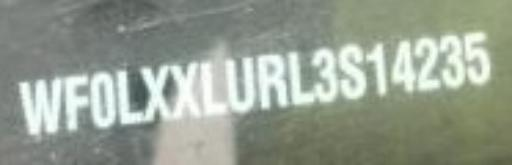letter: (16, 74, 66, 139), (222, 52, 256, 117), (138, 62, 172, 125), (462, 27, 494, 90), (252, 49, 286, 108), (335, 40, 365, 103), (113, 65, 143, 128), (60, 71, 90, 134), (286, 49, 318, 108), (168, 60, 200, 119), (195, 58, 225, 117), (412, 32, 440, 95), (310, 47, 338, 106), (90, 71, 118, 130), (364, 38, 390, 101), (438, 32, 464, 89), (391, 36, 415, 95)
